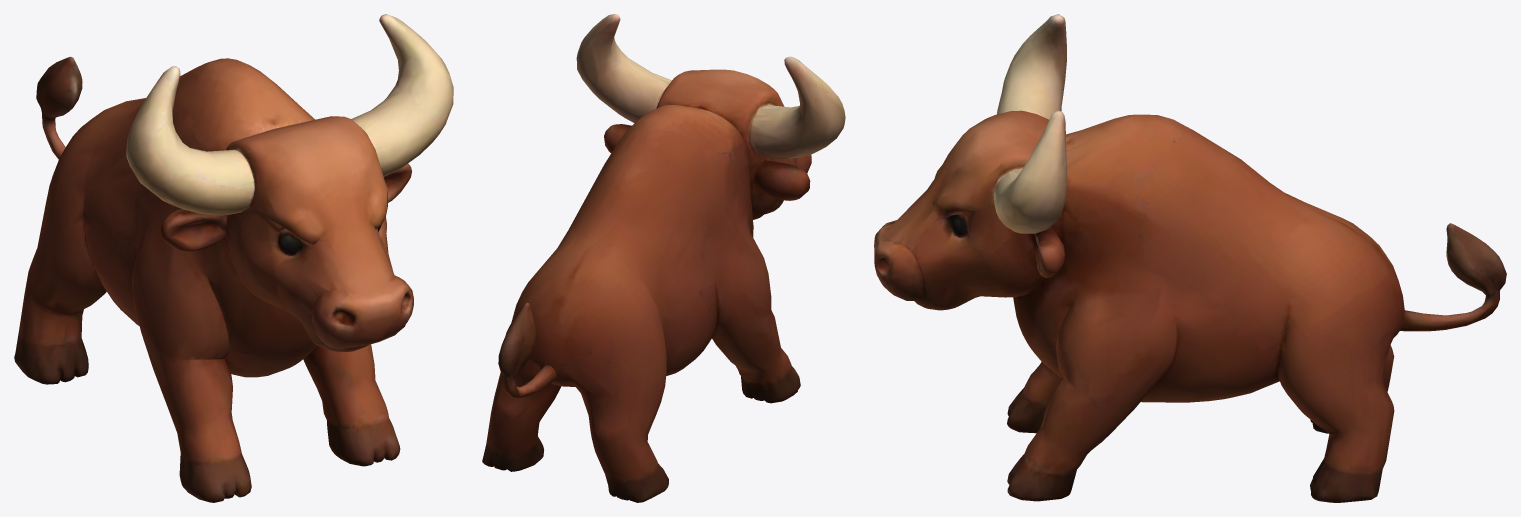
Rendered from bull_pbr.glb.
3 views of the same model, side by side, from view 1: azimuth 30°, elevation 25°; view 2: azimuth 150°, elevation 25°; view 3: azimuth 270°, elevation 25° (orthographic). The views are drawn at different scales.
Visible parts, largest first — view 1: model.002; view 2: model.002; view 3: model.002.
Boxes of the visible parts, x1,y1,x2,y2 form: model.002: [14, 14, 453, 502]; model.002: [482, 14, 845, 502]; model.002: [874, 14, 1506, 502].
Size of the model in its own units: 1.15 by 1.46 by 2.13.
Materials: 1 (1 with a texture image).
